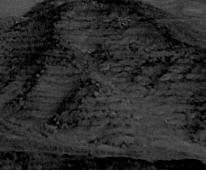Target: (116, 14, 131, 25)
